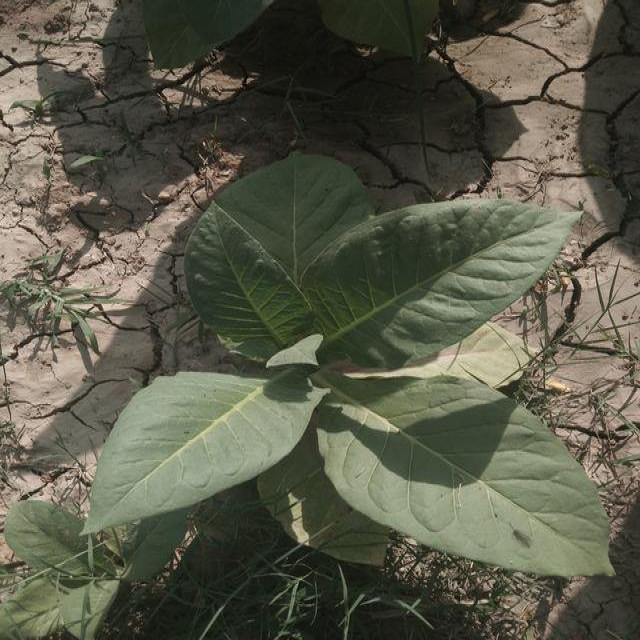crop: (80, 144, 627, 594)
